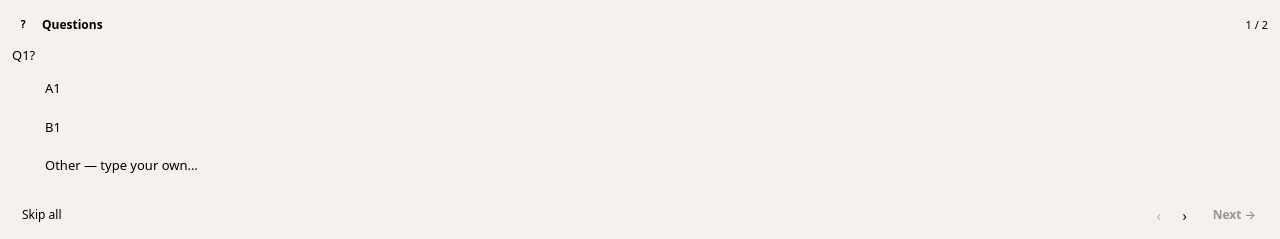
UserInputBanner › auto-advances to the next question 320ms after a single-select pick
The image size is (1280, 239).
Check: the text "1 / 2" is shown, box [1246,17,1268,33]
Click the radio button labelled "A1": (53, 88) [12,72,1266,106]
Wait 320 ms
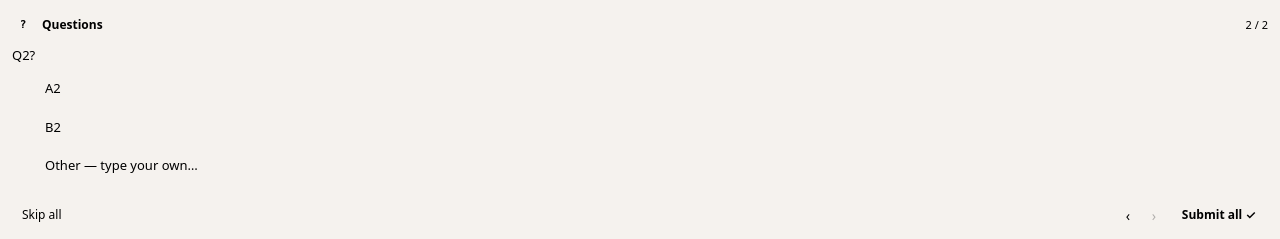
Check: the text "2 / 2" is shown, box [1246,17,1268,33]
